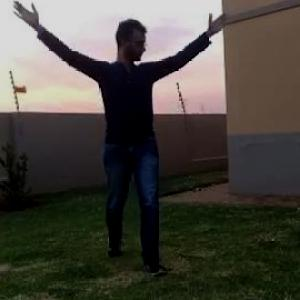takeoff: (1, 3, 239, 278)
